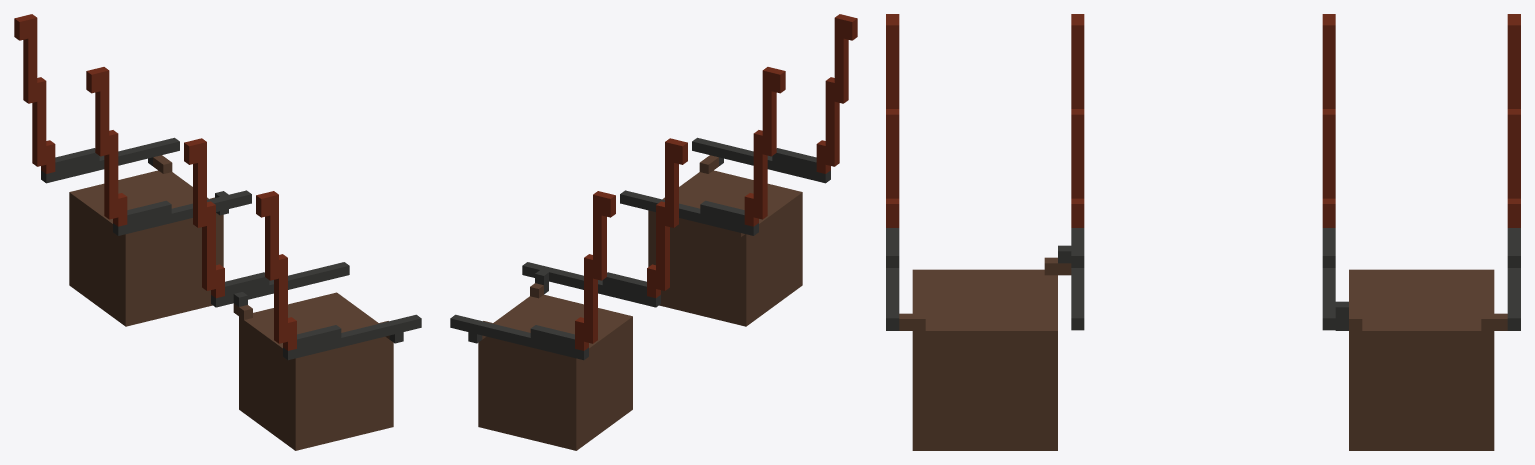
File: abandoned_army_truck_seat_frames.glb
3 views of the same model, side by side, from view 1: azimuth 30°, elevation 25°; view 2: azimuth 150°, elevation 25°; view 3: azimuth 270°, elevation 25° (orthographic). The views are drawn at different scales.
Visible parts, largest first — view 1: body:compound; view 2: body:compound; view 3: body:compound.
Boxes of the visible parts, x1,y1,x2,y2 form: body:compound: [14, 14, 421, 450]; body:compound: [450, 14, 857, 450]; body:compound: [886, 14, 1520, 450].
Size of the model in its own units: 0.5625 by 0.9062 by 1.5.
